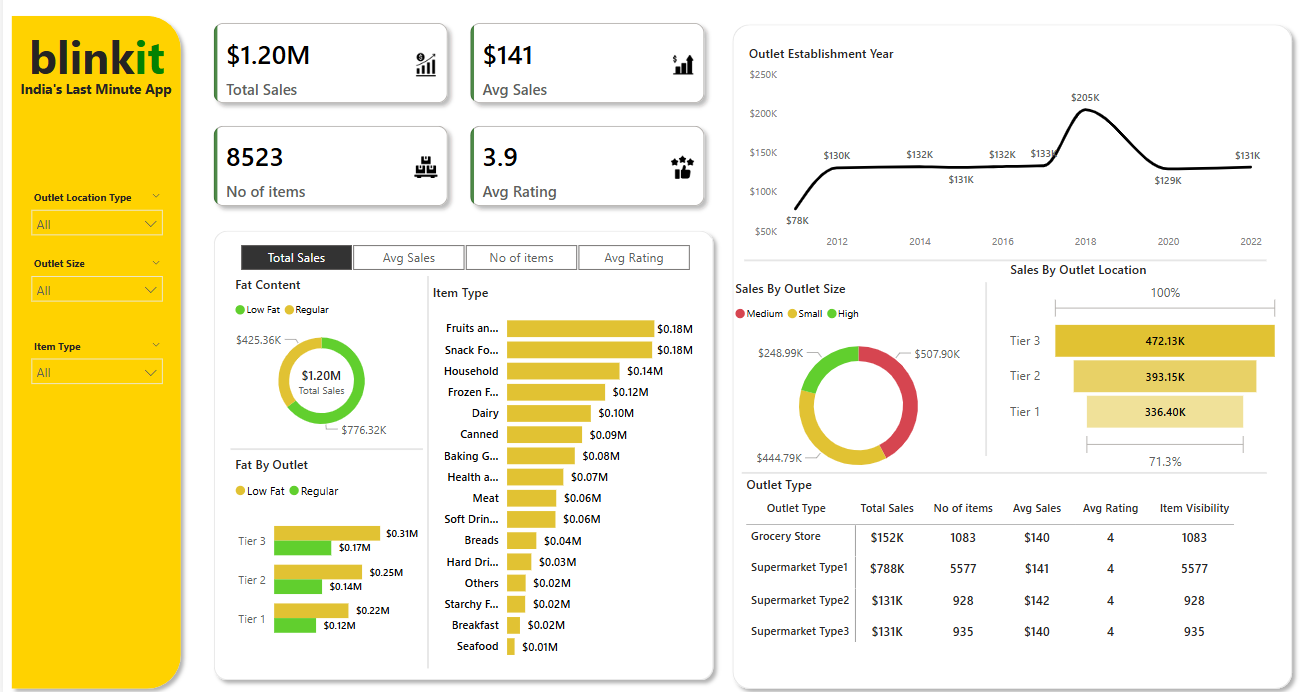

The dashboard page shown, as its layout file describes it:
{"tool":"powerbi","page":{"name":"Page 1","canvas":[1400,800],"ordinal":0},"visuals":[{"type":"shape","box":[0,60.3,199.7,740],"z":0},{"type":"textbox","box":[22.5,75,177.1,78],"z":1000},{"type":"textbox","box":[13.5,132.1,195.1,42],"z":2000},{"type":"cardVisual","fields":{"Data":["BlinkIT Grocery Data.Total Sales","BlinkIT Grocery Data.Avg Sales","BlinkIT Grocery Data.No of items","BlinkIT Grocery Data.Avg Rating"]},"box":[209.1,60.3,561.7,230.6],"z":3000},{"type":"shape","box":[217.2,290.9,553.6,500],"z":4000},{"type":"donutChart","title":"Fat Content","fields":{"Y":["BlinkIT Grocery Data.Total Sales"],"Category":["BlinkIT Grocery Data.Item Fat Content"]},"box":[244,348.5,195.7,179.6],"z":5000},{"type":"slicer","fields":{"Values":["Parameter.Parameter"]},"box":[229.2,308.3,530.8,40.2],"z":6000},{"type":"cardVisual","fields":{"Data":["BlinkIT Grocery Data.Total Sales"]},"box":[264.1,415.6,155.5,92.5],"z":7000},{"type":"clusteredBarChart","title":"Fat By Outlet","fields":{"Y":["BlinkIT Grocery Data.Total Sales"],"Category":["BlinkIT Grocery Data.Outlet Location Type"],"Series":["BlinkIT Grocery Data.Item Fat Content"]},"box":[244,541.6,206.4,213.1],"z":8000},{"type":"shape","box":[244,526.8,206.4,14.7],"z":9000},{"type":"shape","box":[439.7,348.5,32.2,420.9],"z":10000},{"type":"barChart","title":"Item Type","fields":{"Y":["BlinkIT Grocery Data.Total Sales"],"Category":["BlinkIT Grocery Data.Item Type"]},"box":[455.8,356.6,289.5,412.9],"z":11000},{"type":"shape","box":[773.5,69.7,618,730.6],"z":12000},{"type":"lineChart","title":"Outlet Establishment Year","fields":{"Y":["BlinkIT Grocery Data.Total Sales"],"Category":["BlinkIT Grocery Data.Outlet Establishment Year"]},"box":[794.9,100.5,560.3,227.9],"z":13000},{"type":"shape","box":[794.9,315,560.3,33.5],"z":14000},{"type":"donutChart","title":"Sales By Outlet Size","fields":{"Y":["BlinkIT Grocery Data.Total Sales"],"Category":["BlinkIT Grocery Data.Outlet Size"]},"box":[780.2,352.5,274.8,225.2],"z":15000},{"type":"shape","box":[1026.8,355.2,55,186.3],"z":16000},{"type":"funnel","title":"Sales By Outlet Location ","fields":{"Y":["Sum(BlinkIT Grocery Data.Sales)"],"Category":["BlinkIT Grocery Data.Outlet Location Type"]},"box":[1075.1,332.4,298.9,230],"z":17000},{"type":"shape","box":[792.2,541.6,563,36.2],"z":18000},{"type":"pivotTable","title":"Outlet Type","fields":{"Rows":["BlinkIT Grocery Data.Outlet Type"],"Values":["BlinkIT Grocery Data.Total Sales","BlinkIT Grocery Data.No of items","BlinkIT Grocery Data.Avg Sales","BlinkIT Grocery Data.Avg Rating","CountNonNull(BlinkIT Grocery Data.Item Visibility)"]},"box":[792.2,563,581.8,206.4],"z":19000},{"type":"slicer","fields":{"Values":["BlinkIT Grocery Data.Outlet Location Type"]},"box":[20.1,252,160.9,76.4],"z":20000},{"type":"slicer","fields":{"Values":["BlinkIT Grocery Data.Outlet Size"]},"box":[20.1,323.1,160.9,76.4],"z":21000},{"type":"slicer","fields":{"Values":["BlinkIT Grocery Data.Item Type"]},"box":[20.1,411.5,160.9,76.4],"z":22000}]}

Visuals, with their boxes on the page's 1400x800 design canvas (x1, y1, x2, y2). These are canvas units, not pixel positions in the 1305x692 screenshot, which may show the page scaled, cropped or inside an application window:
shape: detection(0, 60, 200, 800)
textbox: detection(22, 75, 200, 153)
textbox: detection(14, 132, 209, 174)
cardVisual - BlinkIT Grocery Data.Total Sales x BlinkIT Grocery Data.Avg Sales: detection(209, 60, 771, 291)
shape: detection(217, 291, 771, 791)
"Fat Content" donutChart: detection(244, 348, 440, 528)
slicer - Parameter.Parameter: detection(229, 308, 760, 348)
cardVisual - BlinkIT Grocery Data.Total Sales: detection(264, 416, 420, 508)
"Fat By Outlet" clusteredBarChart: detection(244, 542, 450, 755)
shape: detection(244, 527, 450, 542)
shape: detection(440, 348, 472, 769)
"Item Type" barChart: detection(456, 357, 745, 770)
shape: detection(774, 70, 1392, 800)
"Outlet Establishment Year" lineChart: detection(795, 100, 1355, 328)
shape: detection(795, 315, 1355, 348)
"Sales By Outlet Size" donutChart: detection(780, 352, 1055, 578)
shape: detection(1027, 355, 1082, 542)
"Sales By Outlet Location " funnel: detection(1075, 332, 1374, 562)
shape: detection(792, 542, 1355, 578)
"Outlet Type" pivotTable: detection(792, 563, 1374, 769)
slicer - BlinkIT Grocery Data.Outlet Location Type: detection(20, 252, 181, 328)
slicer - BlinkIT Grocery Data.Outlet Size: detection(20, 323, 181, 400)
slicer - BlinkIT Grocery Data.Item Type: detection(20, 412, 181, 488)
